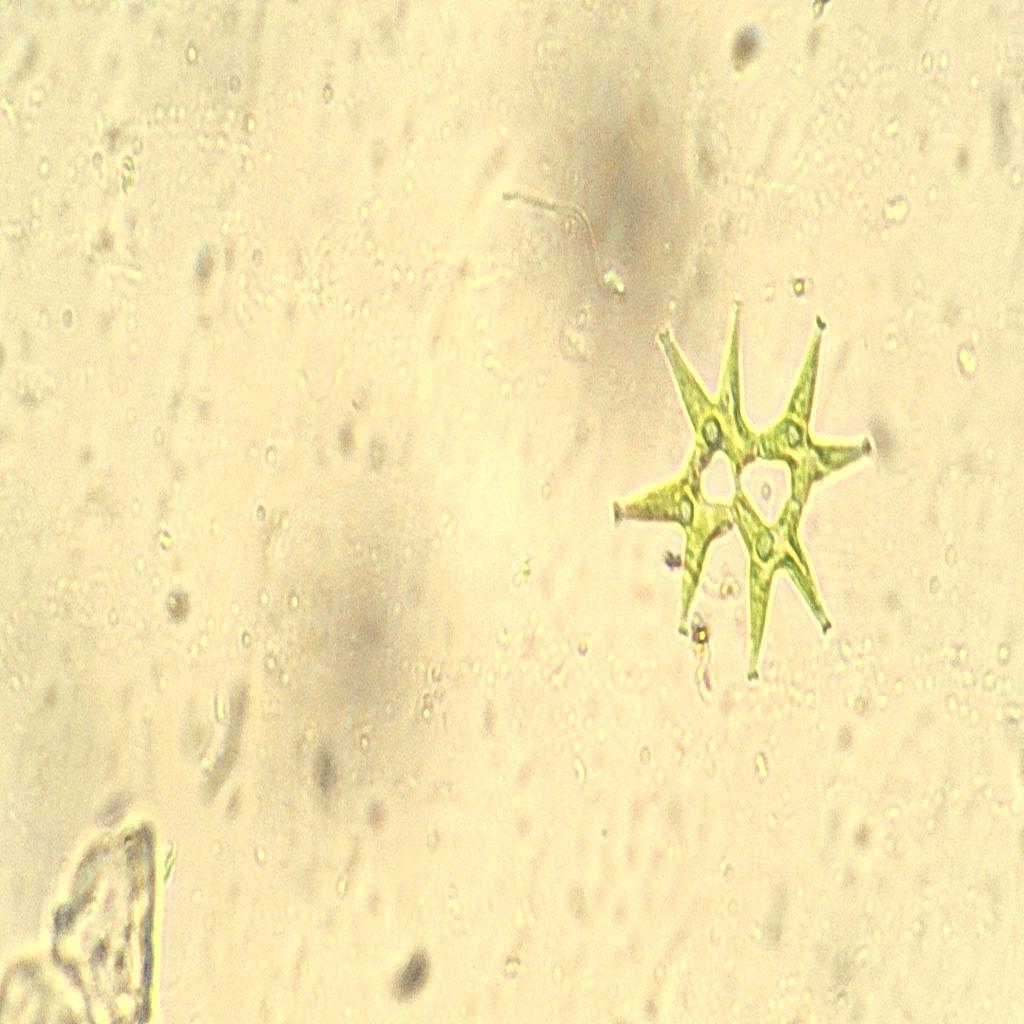Pediastrum_75FO: (601, 284, 893, 706)
